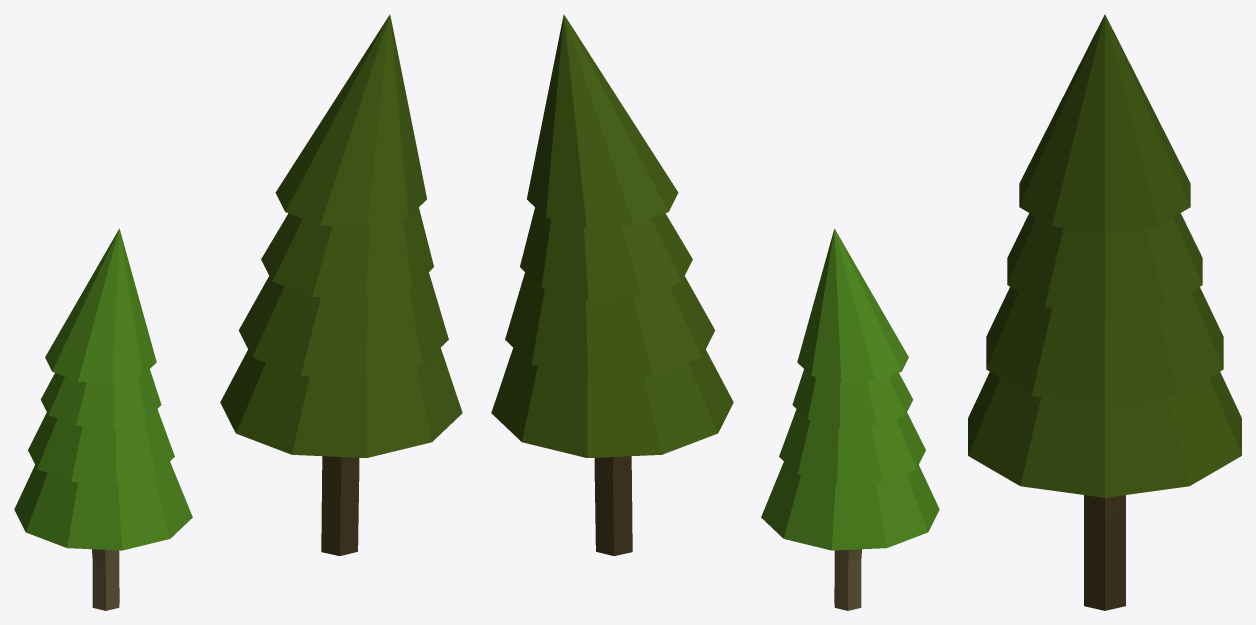
The model's file is pine tree variation.fbx.
3 views of the same model, side by side, from view 1: azimuth 30°, elevation 25°; view 2: azimuth 150°, elevation 25°; view 3: azimuth 270°, elevation 25° (orthographic). The views are drawn at different scales.
Visible parts, largest first — view 1: pCylinder10 (×2), pCylinder4 (×2), pCylinder9 (×2), pCylinder3 (×2), pCylinder2 (×2); view 2: pCylinder10 (×2), pCylinder4 (×2), pCylinder9 (×2), pCylinder3 (×2), pCylinder2 (×2); view 3: pCylinder10, pCylinder4, pCylinder9, pCylinder3, pCylinder2.
Part boxes in pixels (box(x1,y1,x2,y2)): pCylinder10 (×2): box(14, 348, 462, 550); pCylinder4 (×2): box(45, 14, 426, 382); pCylinder9 (×2): box(28, 272, 448, 483); pCylinder3 (×2): box(40, 207, 433, 427); pCylinder2 (×2): box(92, 456, 359, 610); pCylinder10 (×2): box(491, 348, 939, 550); pCylinder4 (×2): box(527, 14, 908, 382); pCylinder9 (×2): box(505, 272, 925, 483); pCylinder3 (×2): box(520, 207, 913, 427); pCylinder2 (×2): box(594, 456, 861, 610); pCylinder10: box(968, 372, 1241, 497); pCylinder4: box(1019, 14, 1190, 233); pCylinder9: box(986, 287, 1223, 405); pCylinder3: box(1007, 213, 1202, 314); pCylinder2: box(1084, 495, 1125, 610).
Bounding box in the file's own units: 3912 × 4625 × 1865.
